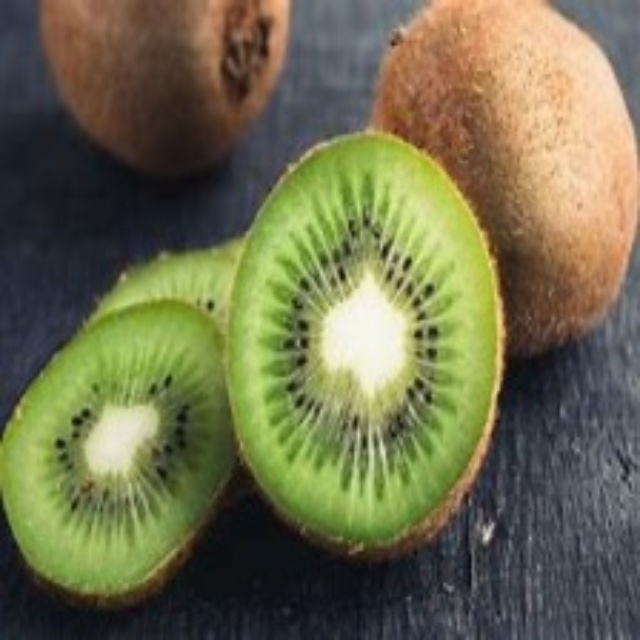kiwi: (235, 135, 499, 553), (364, 0, 639, 348), (5, 292, 246, 609), (38, 0, 293, 181)
